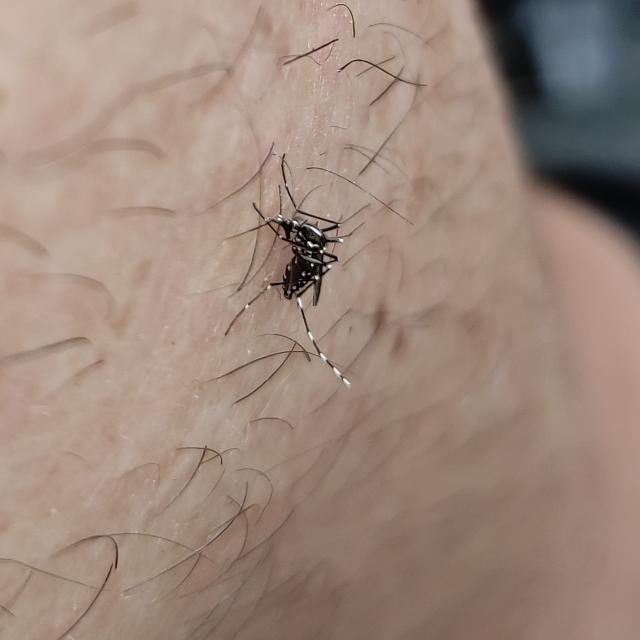albopictus: (178, 127, 380, 406)
